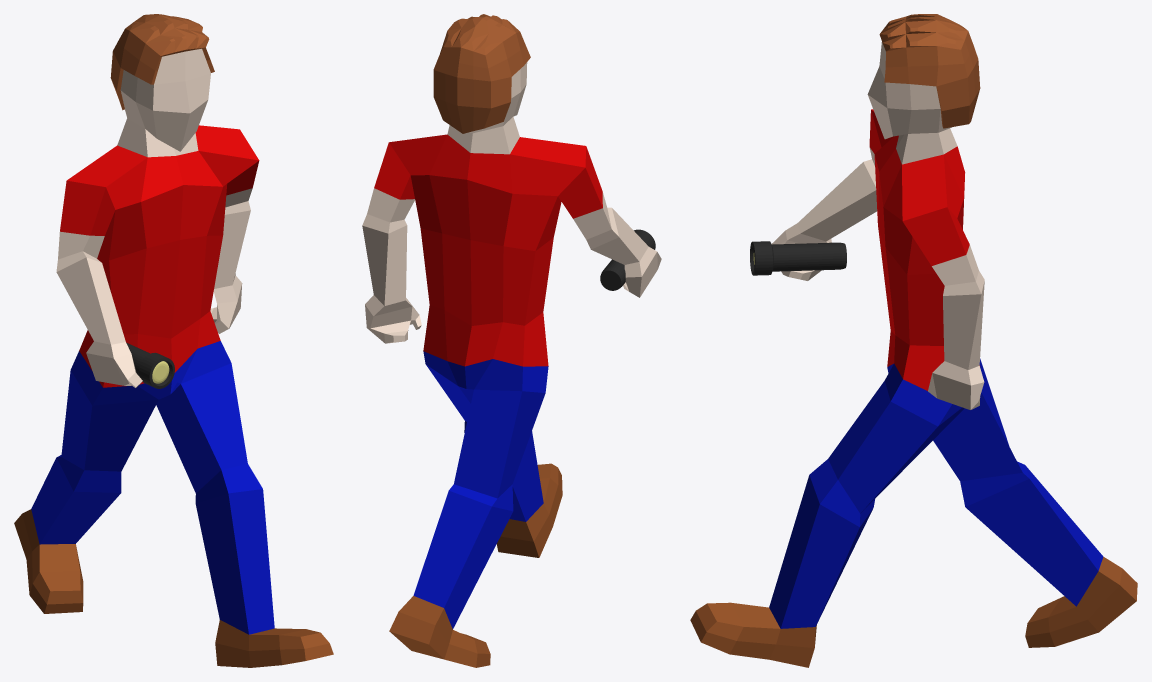
File: Human_walking_9.fbx
3 views of the same model, side by side, from view 1: azimuth 30°, elevation 25°; view 2: azimuth 150°, elevation 25°; view 3: azimuth 270°, elevation 25° (orthographic). The views are drawn at different scales.
Parts seen in each view (by area): view 1: Person.001, Cylinder.001; view 2: Person.001, Cylinder.001; view 3: Person.001, Cylinder.001.
Boxes of the visible parts, x1,y1,x2,y2 form: Person.001: (14, 14, 333, 667); Cylinder.001: (126, 342, 174, 388); Person.001: (362, 14, 661, 667); Cylinder.001: (600, 229, 655, 290); Person.001: (690, 14, 1137, 667); Cylinder.001: (750, 241, 846, 275).
Size of the model in its own units: 0.5924 by 1.56 by 0.9772.
